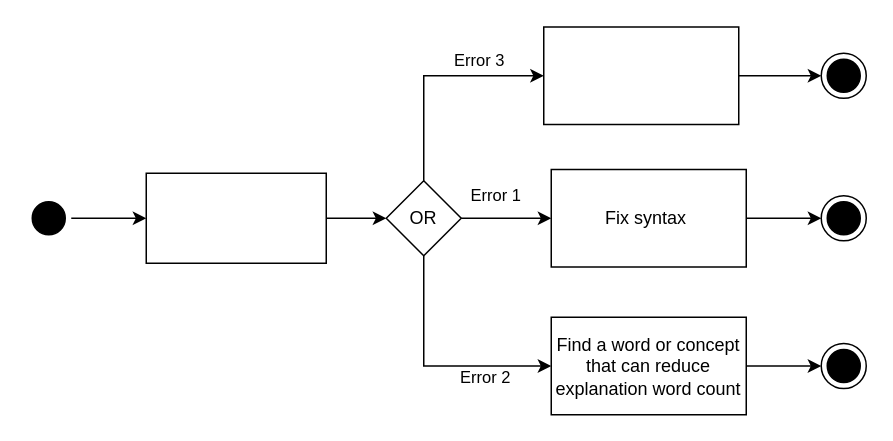
This 893x441 diagram has some shape labels left out. Each missing label, with the box of its shape:
Find the explanation of a word not present in the avatar DB: (542, 26, 739, 124)
Identify the error: (145, 172, 326, 263)
